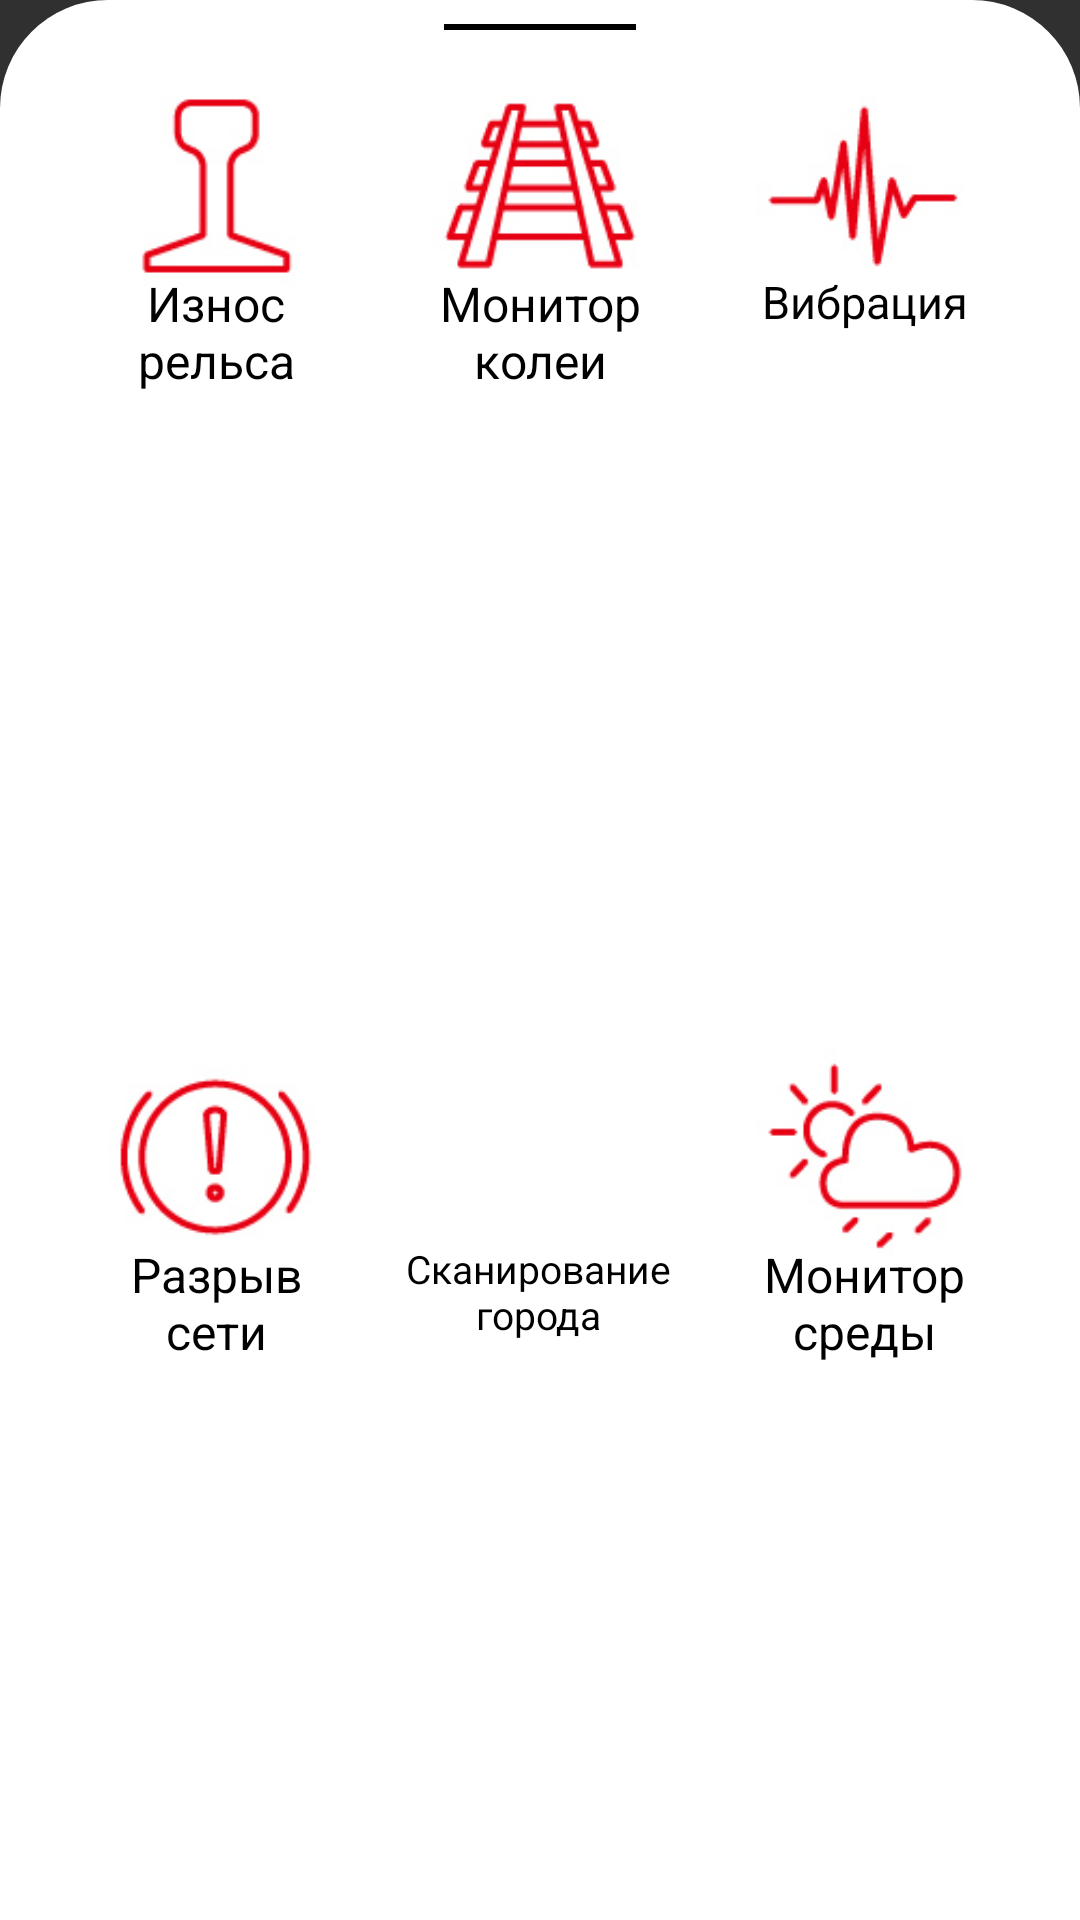

Icons on this 1080*1920 Android screen, each with the point to tap as (x,y):
rail: (217,186), (540,186)
